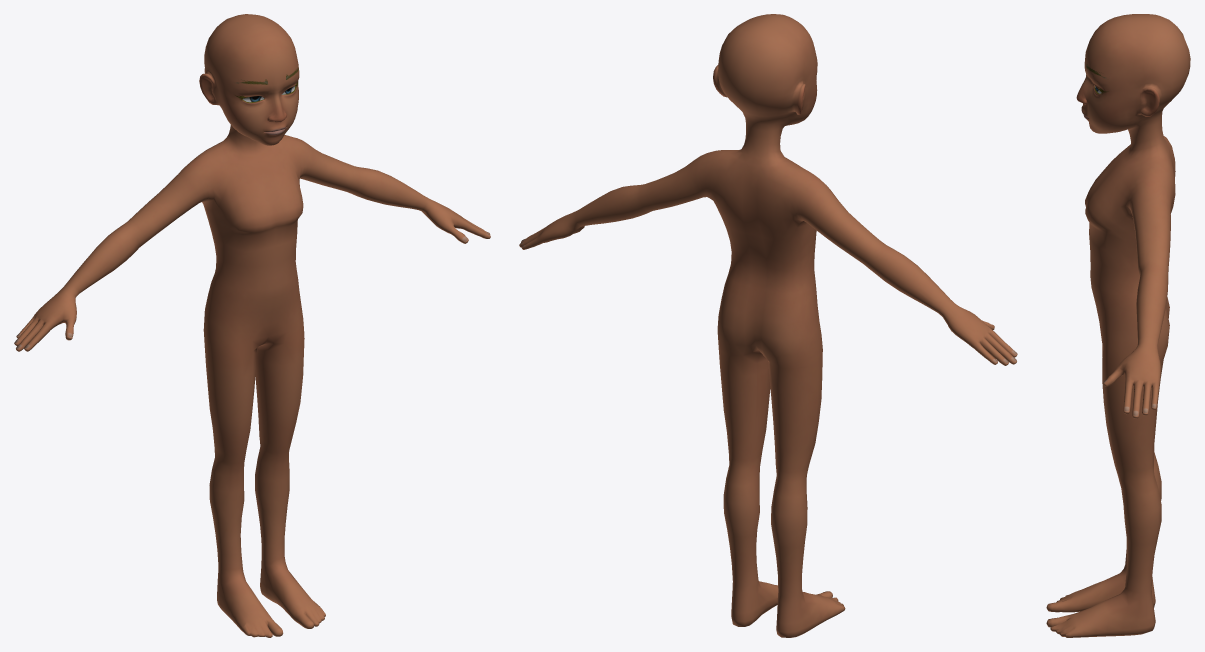
Rendered from frame_0075.glb.
3 renders of one model, left to right at view 1: azimuth 30°, elevation 25°; view 2: azimuth 150°, elevation 25°; view 3: azimuth 270°, elevation 25°, orthographic. The views are drawn at different scales.
Parts seen in each view (by area): view 1: frame_0075_head_geo; view 2: frame_0075_head_geo; view 3: frame_0075_head_geo.
Boxes of the visible parts, x1,y1,x2,y2 form: frame_0075_head_geo: [14, 14, 490, 637]; frame_0075_head_geo: [519, 14, 1017, 637]; frame_0075_head_geo: [1046, 14, 1190, 637].
Bounding box in the file's own units: 1.28 × 1.5 × 0.3253.
3 materials, 3 textured.
